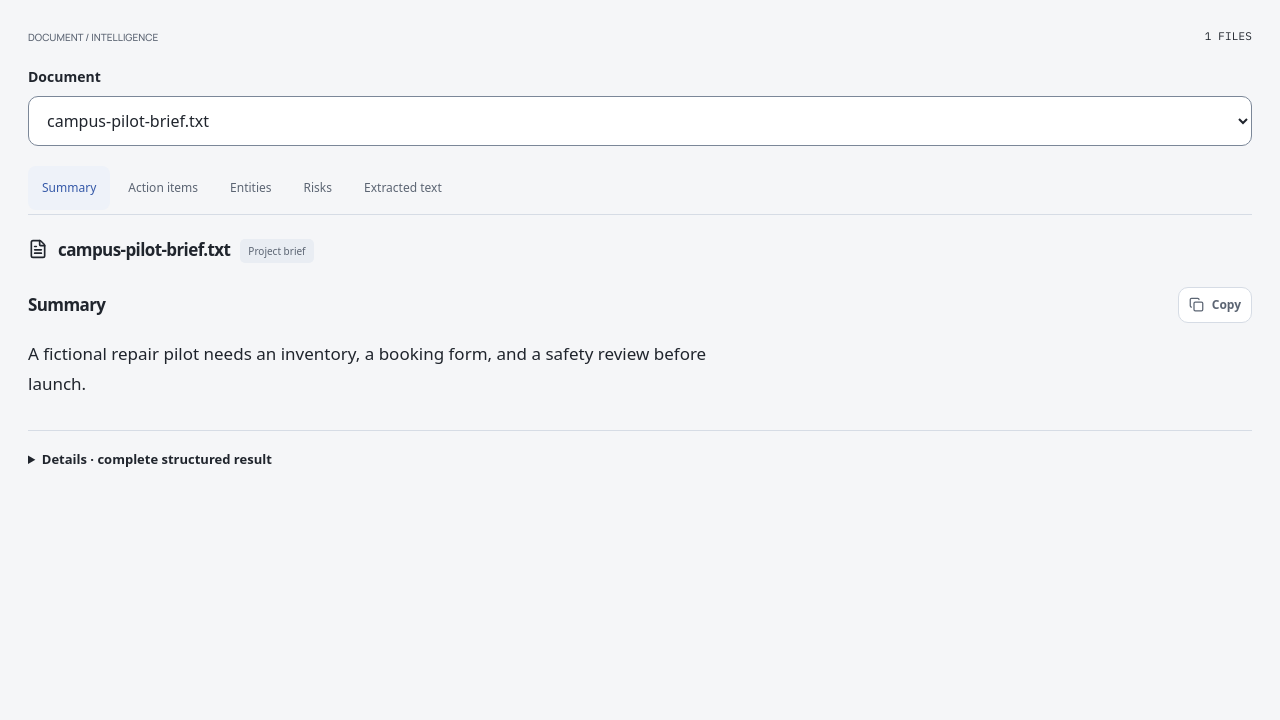
Test case: offline sample surfaces › switches document sections and shows missing owners
Click the tab "Action items" at (163, 188), box [114,166,212,210]
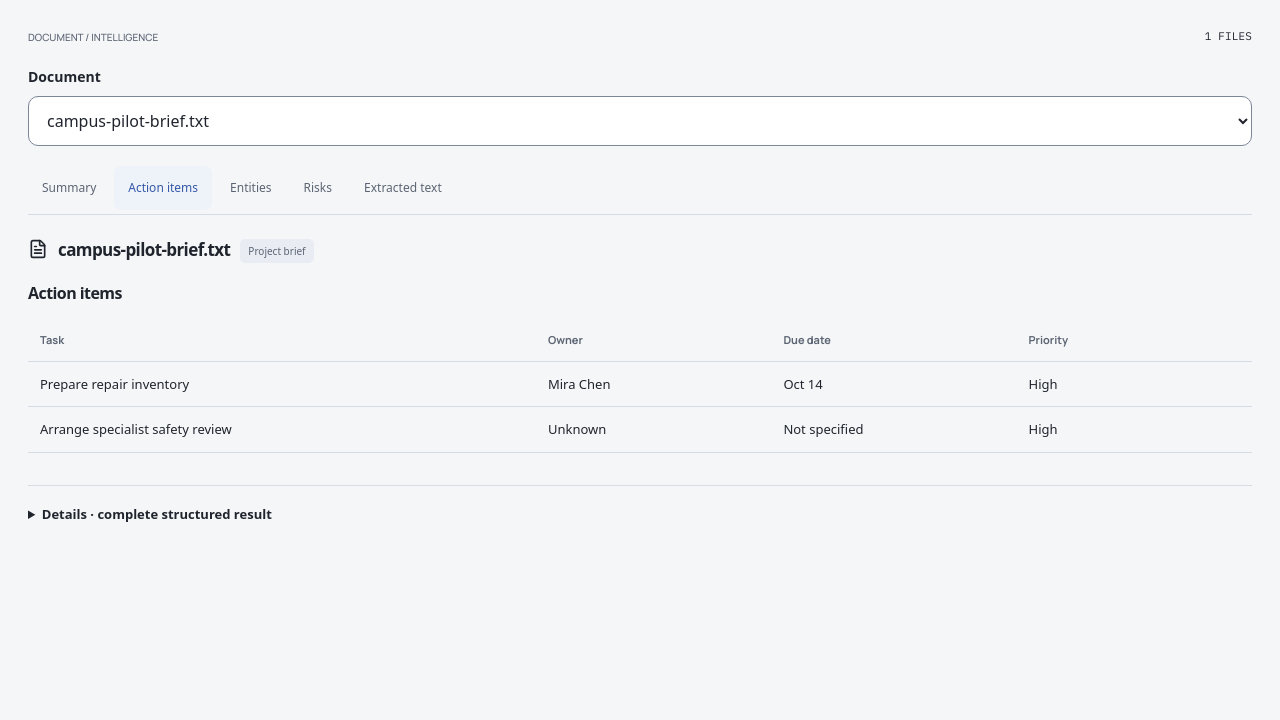
Expected: the cell "Unknown" is shown, [536,407,771,453]
Click the tab "Risks" at (318, 188), box [290,166,346,210]
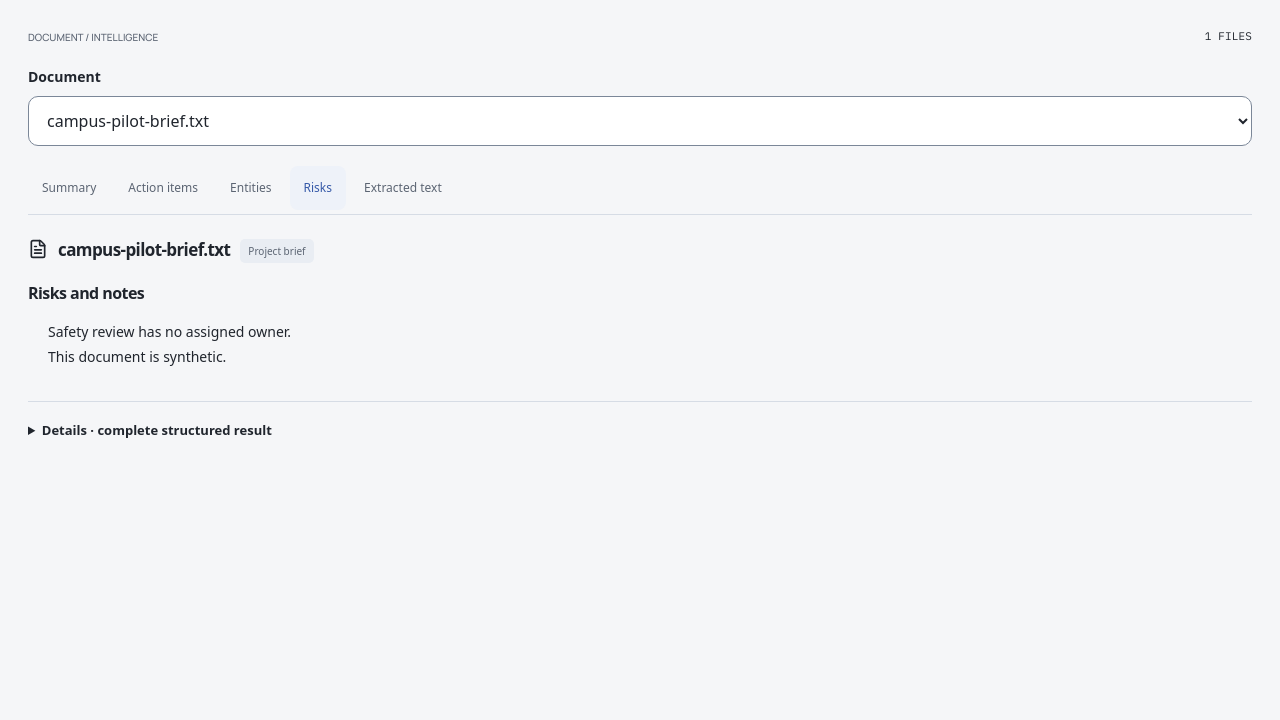
Expected: the list item "Safety review has no assigned owner." is shown, [48,322,291,341]
